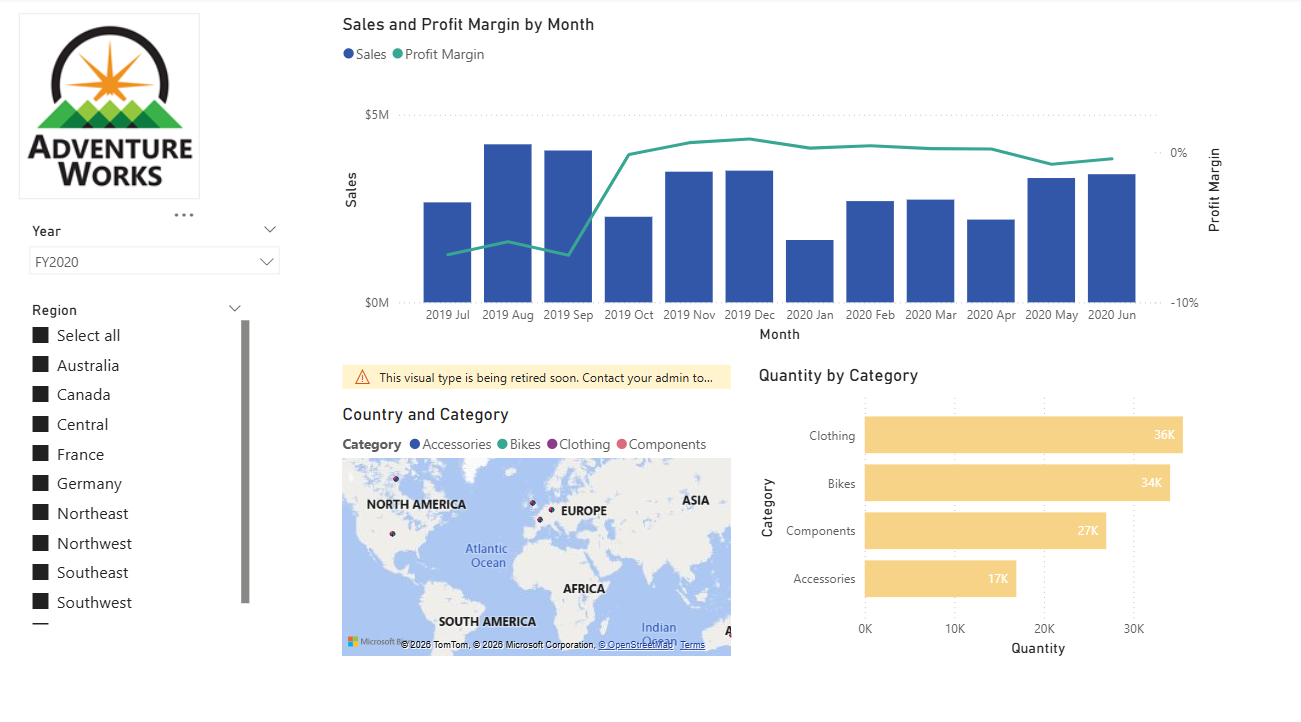

What the dashboard file says about the page in this screenshot:
{"tool":"powerbi","page":{"name":"Overview","canvas":[1280,720],"ordinal":3},"visuals":[{"type":"image","box":[17.8,16.5,178.4,181.1],"z":0},{"type":"slicer","fields":{"Values":["Date.Year"]},"box":[17.8,215.4,264.8,76.8],"z":1000},{"type":"slicer","fields":{"Values":["Region.SalesTerritoryRegion"]},"box":[17.8,292.3,230.5,326.6],"z":2000},{"type":"lineStackedColumnComboChart","fields":{"Category":["Date.Month"],"Y2":["Sales.Profit Margin"],"Y":["Sum(Sales.Sales)"]},"box":[330.7,16.5,870,326.6],"z":3000},{"type":"map","fields":{"Category":["Region.Country"],"Series":["Product.Category"]},"box":[330.7,359.5,389.7,290.9],"z":4000},{"type":"barChart","fields":{"Category":["Product.Category"],"Y":["Sales.Quantity_test"]},"box":[736.9,359.5,463.8,290.9],"z":5000}]}

Visuals, with their boxes on the page's 1280x720 design canvas (x1, y1, x2, y2). These are canvas units, not pixel positions in the 1301x722 screenshot, which may show the page scaled, cropped or inside an application window:
image: 18, 16, 196, 198
slicer - Date.Year: 18, 215, 283, 292
slicer - Region.SalesTerritoryRegion: 18, 292, 248, 619
lineStackedColumnComboChart - Date.Month x Sales.Profit Margin: 331, 16, 1201, 343
map - Region.Country x Product.Category: 331, 360, 720, 650
barChart - Product.Category x Sales.Quantity_test: 737, 360, 1201, 650
